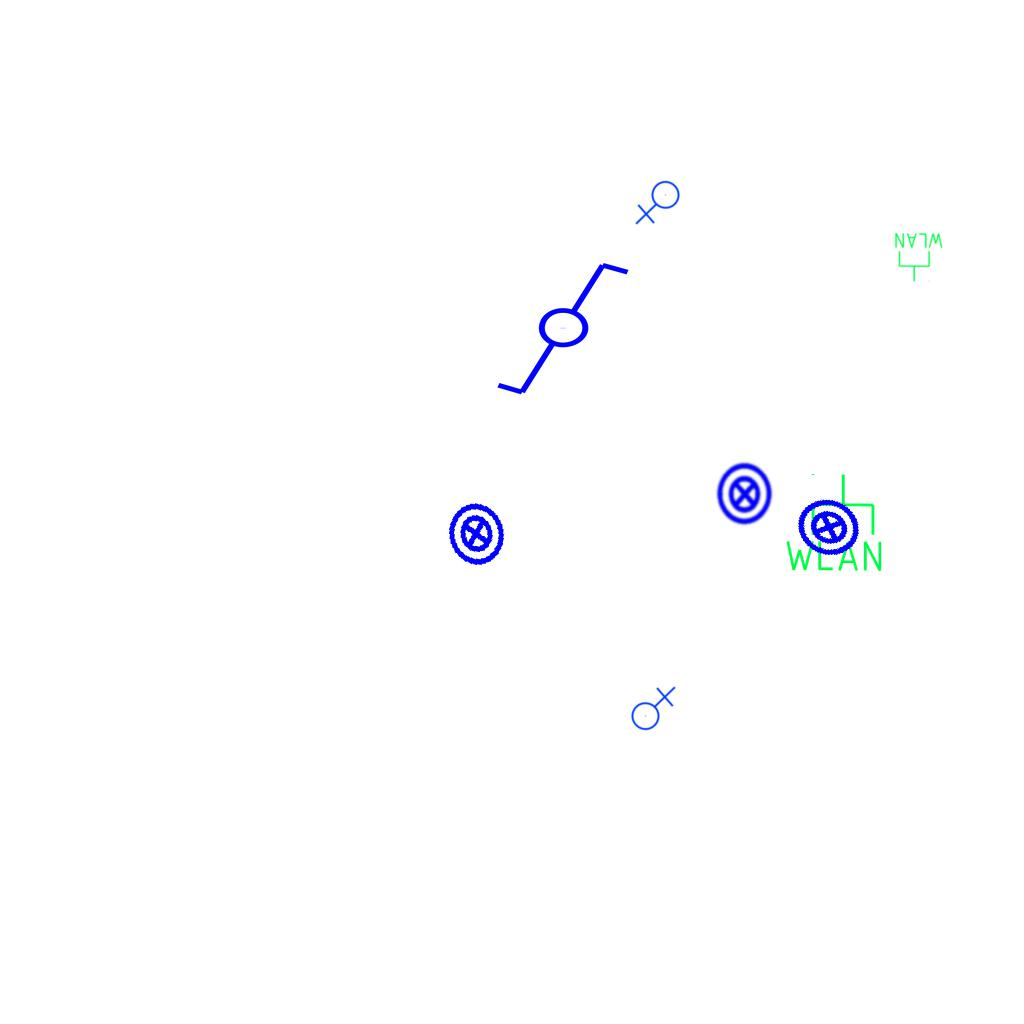Elektroanschluss_allgemein_230V_Geraeteanschlussdose_230V: (627, 684, 676, 731), (635, 180, 684, 227)
Taster_beleuchtet: (786, 484, 872, 570), (436, 494, 516, 574), (712, 461, 778, 527)
WLAN: (781, 471, 886, 575), (893, 231, 945, 283)
Wechselschalter: (493, 258, 650, 402)
